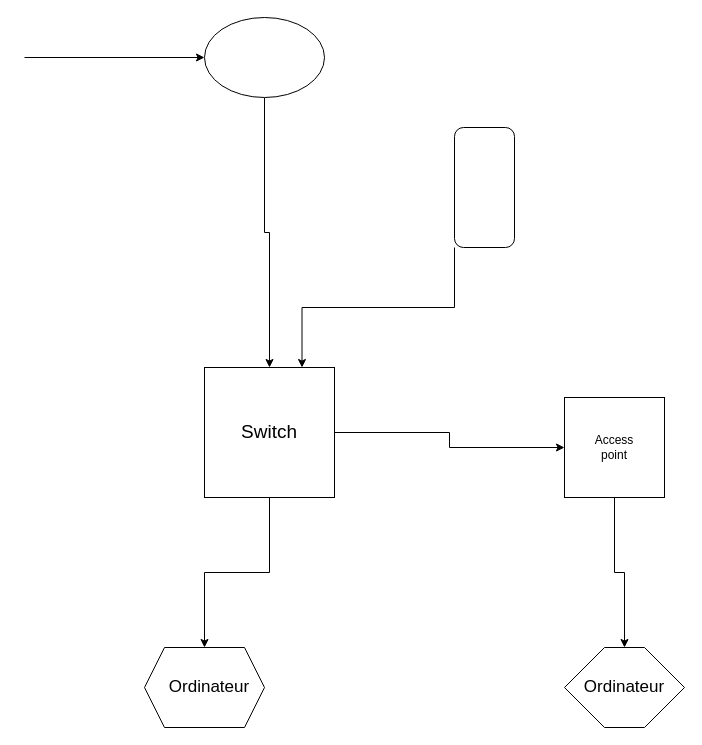
Some shapes in this 702 by 745 pixel diagram are drawn without their labels. Each missing label, with the box of its shape:
Routeur: (204, 16, 324, 98)
Serveur: (454, 126, 514, 248)
